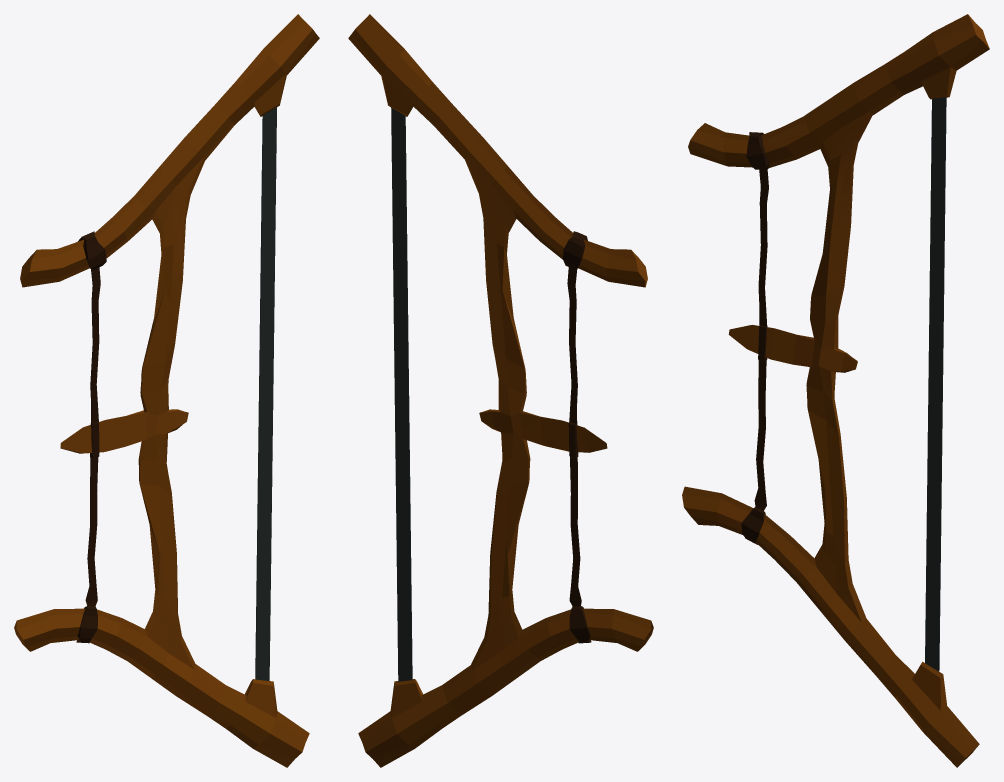
The model's file is pokasaha_fixed.fbx.
3 renders of one model, left to right at view 1: azimuth 30°, elevation 25°; view 2: azimuth 150°, elevation 25°; view 3: azimuth 330°, elevation 25°, orthographic.
Visible parts, largest first — view 1: Cube.001; view 2: Cube.001; view 3: Cube.001.
Boxes of the visible parts, box(x1,y1,x2,y2) form: Cube.001: box(14, 14, 319, 767); Cube.001: box(348, 14, 653, 767); Cube.001: box(682, 14, 989, 767).
Bounding box in the file's own units: 61.55 × 145 × 4.03.
